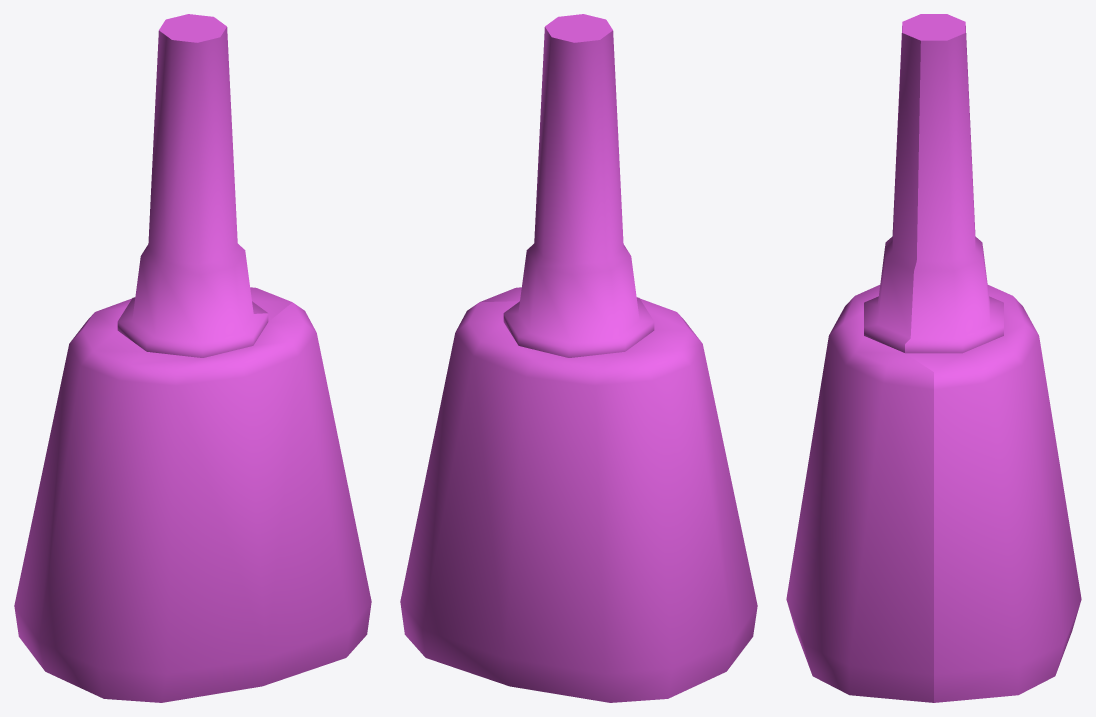
File: Gluebottle_Prop.fbx
The picture shows the model from 3 angles, left to right: view 1: azimuth 30°, elevation 25°; view 2: azimuth 150°, elevation 25°; view 3: azimuth 270°, elevation 25°; orthographic projection.
Parts seen in each view (by area): view 1: Gluebottle_mesh; view 2: Gluebottle_mesh; view 3: Gluebottle_mesh.
Boxes of the visible parts, left/top/right/bottom form: Gluebottle_mesh: left=14, top=14, right=371, bottom=702; Gluebottle_mesh: left=400, top=14, right=757, bottom=702; Gluebottle_mesh: left=786, top=14, right=1081, bottom=702.
Size of the model in its own units: 86.04 by 162 by 71.65.
